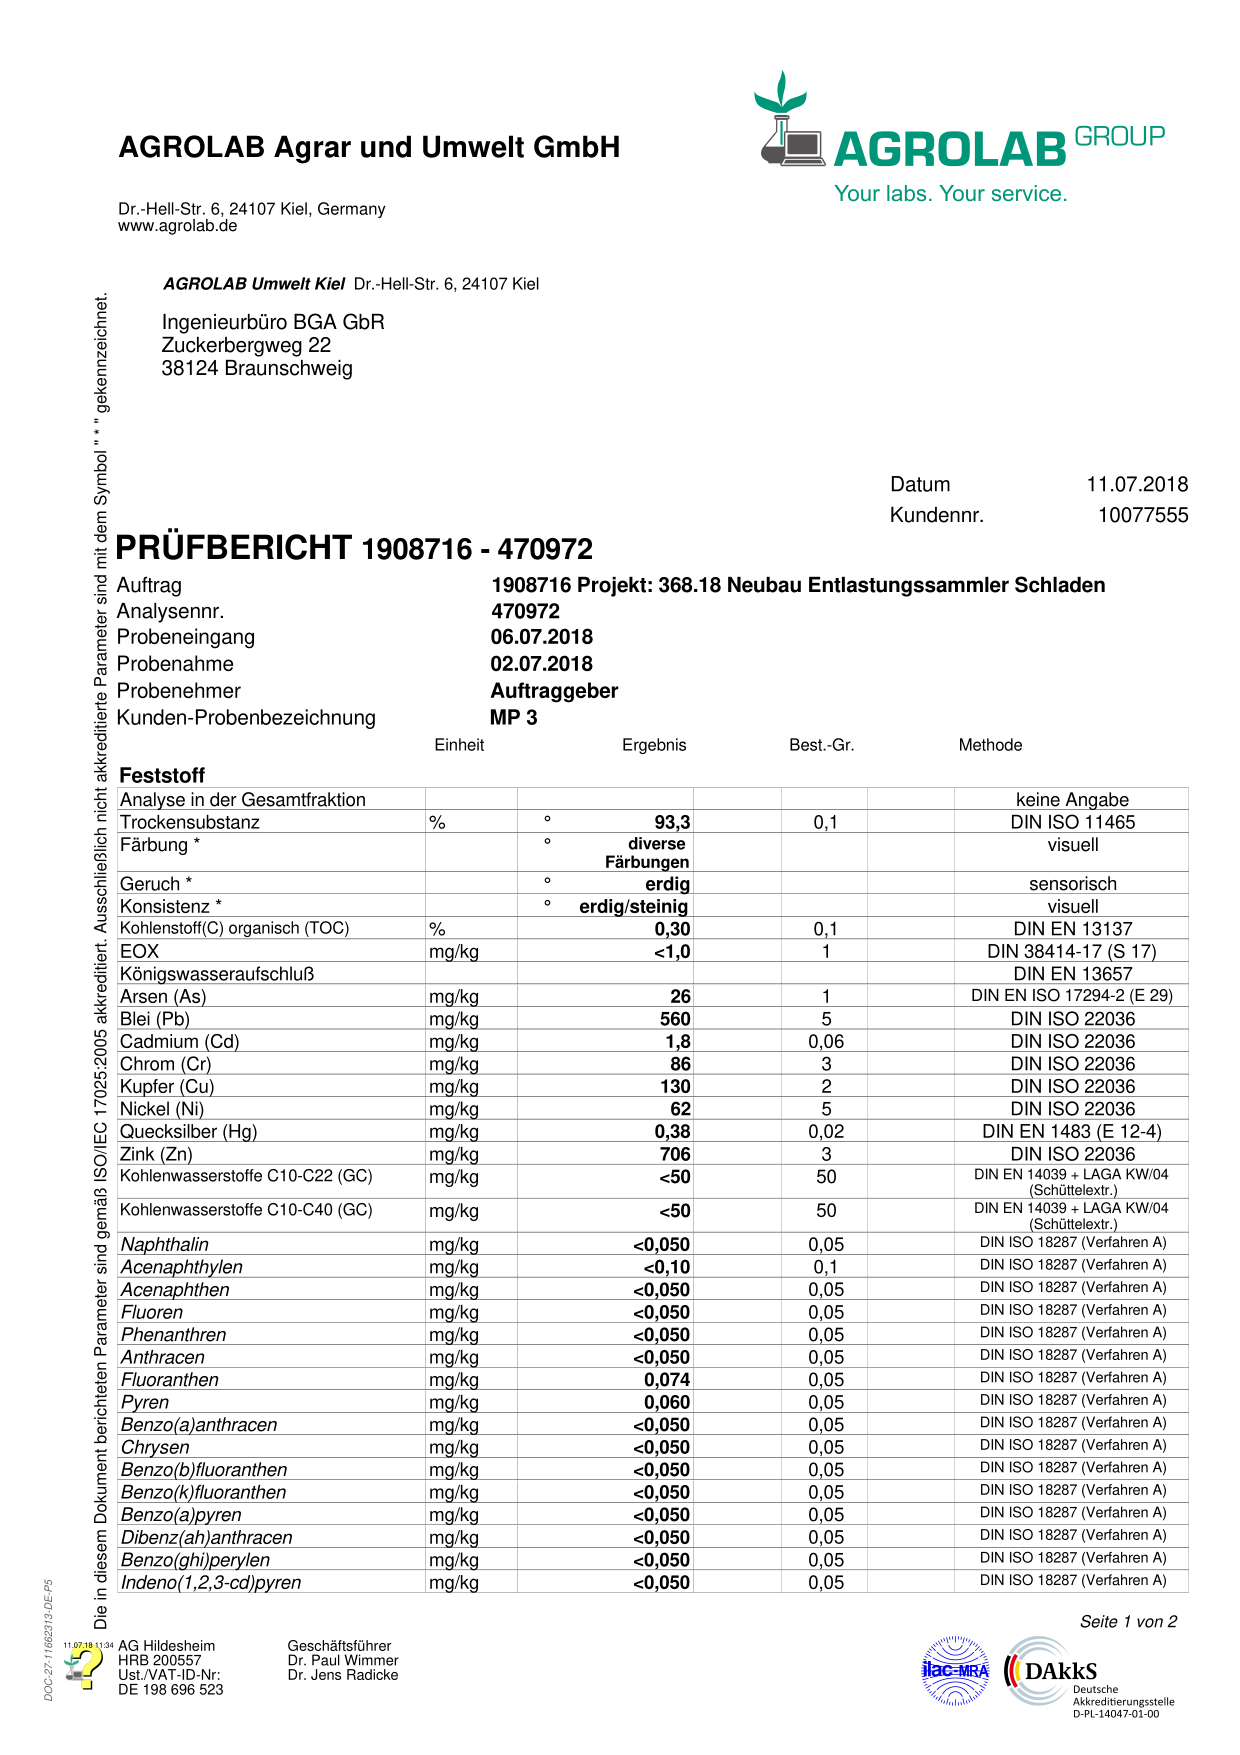table: (115, 784, 1194, 1599)
